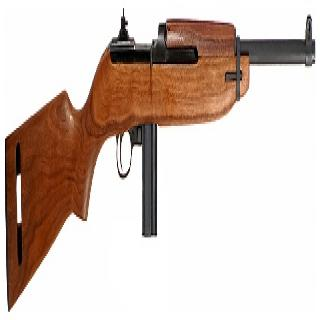gun: (2, 0, 314, 318)
